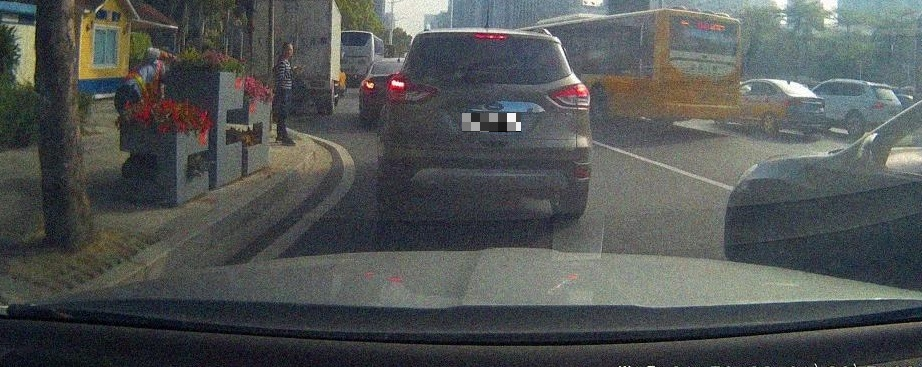L_light: (386, 76, 438, 103)
R_light: (548, 82, 591, 108)
T_light: (475, 34, 508, 40)
day-left: (376, 27, 592, 216)
plate_1: (462, 113, 521, 132)
